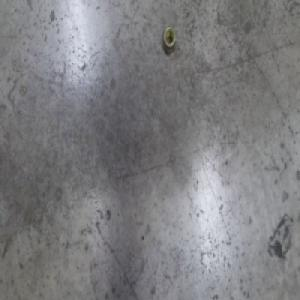Nut: (161, 20, 175, 52)
